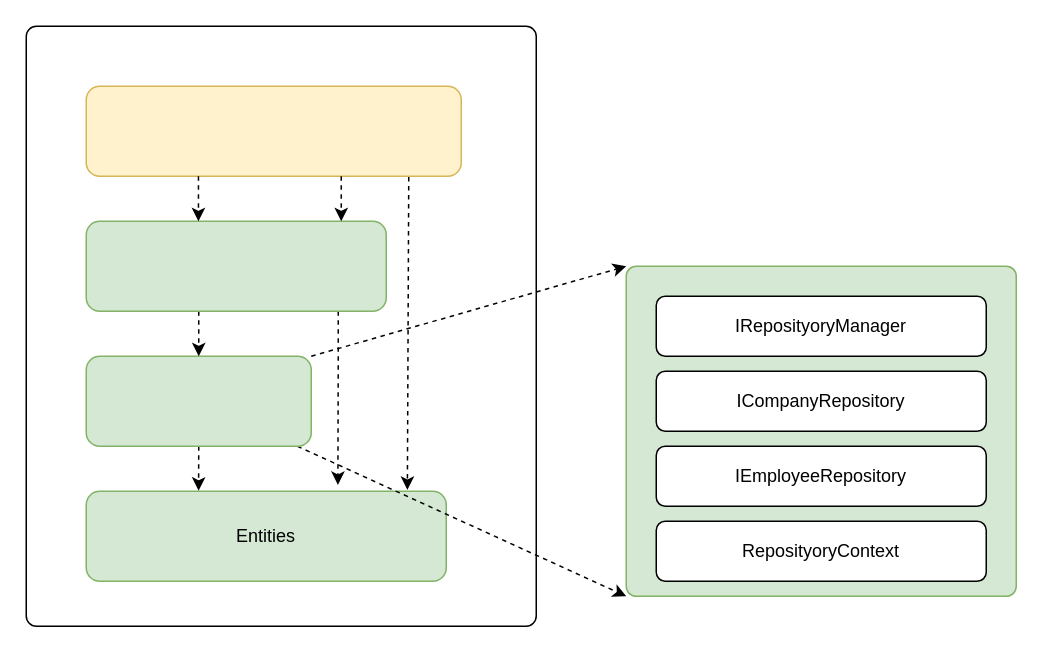
Some shapes in this 1043 by 653 pixel diagram are drawn without their labels. The centre of each missing label's shape, as x and y in pixels:
"Api" goes at [273,130].
"Repositories" goes at [198,400].
"Services" goes at [235,265].
